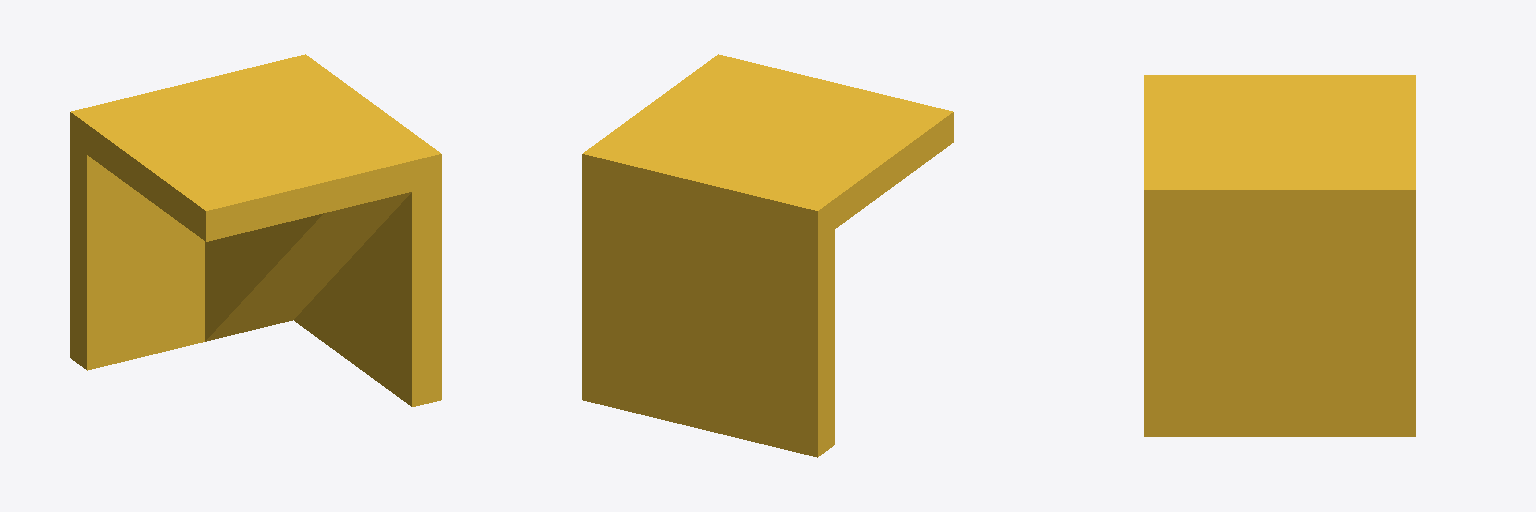
The model's file is E3-ActFin01.obj.
3 views of the same model, side by side, from view 1: azimuth 30°, elevation 25°; view 2: azimuth 150°, elevation 25°; view 3: azimuth 270°, elevation 25° (orthographic).
Parts seen in each view (by area): view 1: mesh10, mesh3, mesh6, mesh0, mesh1, mesh7, mesh2; view 2: mesh9, mesh10, mesh7; view 3: mesh8, mesh10.
Boxes of the visible parts, <box> form: mesh10: <box>71,54,440,210</box>; mesh3: <box>87,155,204,370</box>; mesh6: <box>206,154,441,406</box>; mesh0: <box>294,193,411,406</box>; mesh1: <box>205,192,411,341</box>; mesh7: <box>70,112,205,369</box>; mesh2: <box>205,213,323,340</box>; mesh9: <box>582,154,817,457</box>; mesh10: <box>583,54,952,210</box>; mesh7: <box>818,112,953,456</box>; mesh8: <box>1144,190,1415,436</box>; mesh10: <box>1144,75,1415,189</box>.
Size of the model in its own units: 0.04 by 0.04 by 0.04.